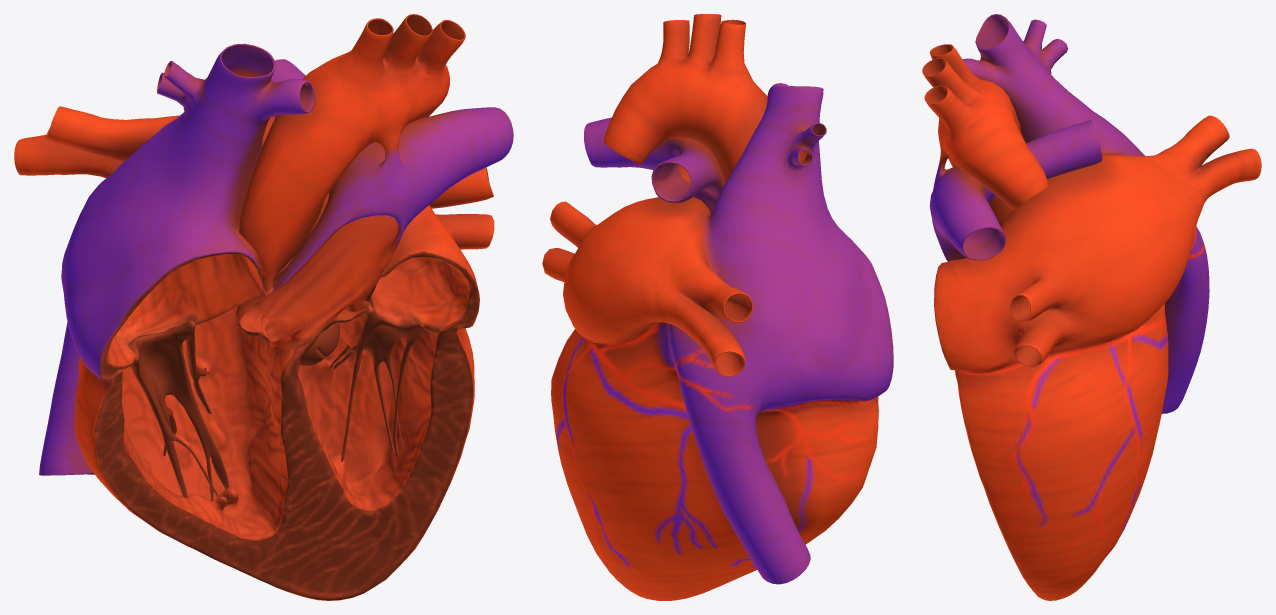
File: compressed_heart.glb
3 views of the same model, side by side, from view 1: azimuth 30°, elevation 25°; view 2: azimuth 150°, elevation 25°; view 3: azimuth 270°, elevation 25° (orthographic). The views are drawn at different scales.
Visible parts, largest first — view 1: GLTF_created_0_6; view 2: GLTF_created_0_6; view 3: GLTF_created_0_6.
Part boxes in pixels (box(x1,y1,x2,y2)): GLTF_created_0_6: box(14, 14, 513, 600); GLTF_created_0_6: box(542, 14, 893, 600); GLTF_created_0_6: box(922, 14, 1261, 600).
Size of the model in its own units: 0.1122 by 0.1688 by 0.0964.
